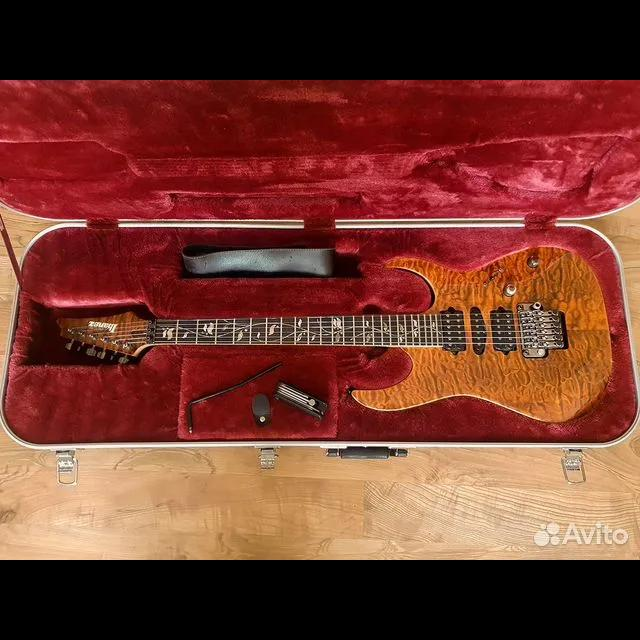Electric-Guitar: (58, 246, 614, 424)
